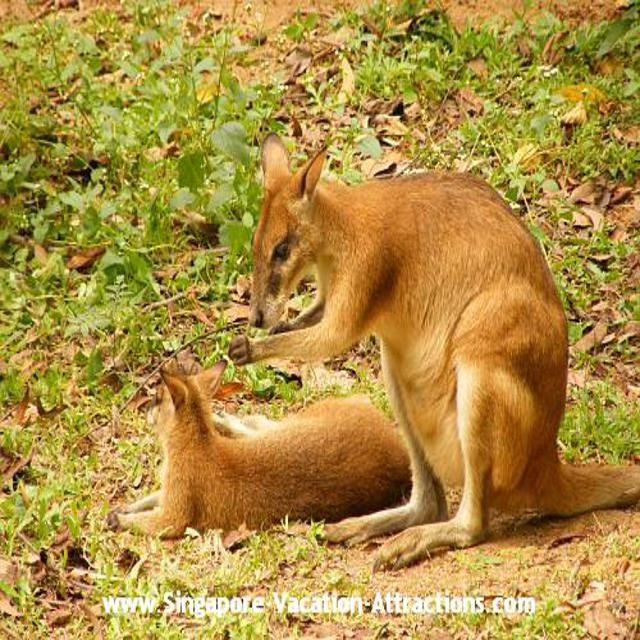kangaroo: (242, 127, 563, 470), (134, 358, 383, 534)
